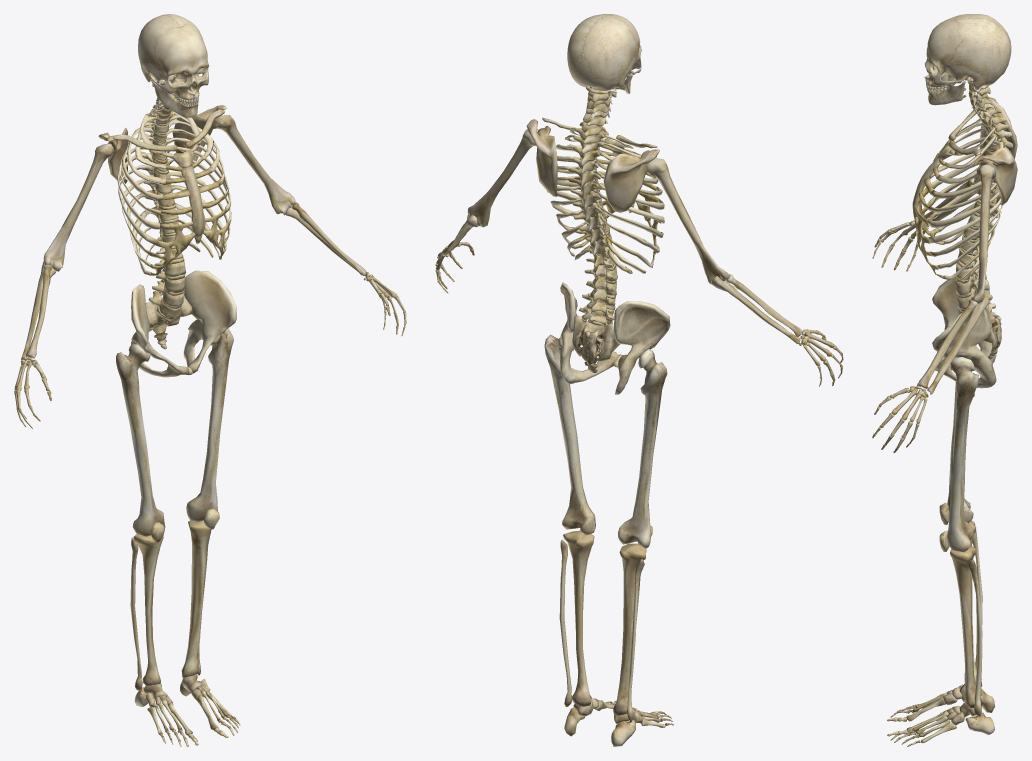
Rendered from skeleton.glb.
3 renders of one model, left to right at view 1: azimuth 30°, elevation 25°; view 2: azimuth 150°, elevation 25°; view 3: azimuth 270°, elevation 25°, orthographic. The views are drawn at different scales.
Parts seen in each view (by area): view 1: F_HipsLegs, F_ArmsHands, F_Ribs, F_Cranium, F_Spine, F_RibCartilage, F_Sternum, F_Discs, F_Sacrum; view 2: F_HipsLegs, F_ArmsHands, F_Spine, F_Cranium, F_Ribs, F_Sacrum, F_RibCartilage; view 3: F_HipsLegs, F_ArmsHands, F_Cranium, F_Ribs, F_Spine, F_RibCartilage, F_Mandible, F_Sternum, F_Sacrum, F_Discs.
Part boxes in pixels (box(x1,y1,x2,y2)): F_HipsLegs: box(116, 270, 240, 746); F_ArmsHands: box(14, 105, 406, 428); F_Ribs: box(117, 111, 231, 275); F_Cranium: box(138, 14, 209, 100); F_Spine: box(141, 80, 185, 317); F_RibCartilage: box(150, 144, 228, 275); F_Sternum: box(171, 149, 205, 244); F_Discs: box(152, 107, 185, 319); F_Sacrum: box(146, 295, 193, 349); F_HipsLegs: box(544, 282, 673, 746); F_ArmsHands: box(435, 117, 843, 386); F_Spine: box(568, 86, 617, 325); F_Cranium: box(567, 14, 641, 91); F_Ribs: box(547, 127, 664, 273); F_Sacrum: box(572, 314, 620, 372); F_RibCartilage: box(581, 138, 660, 263); F_HipsLegs: box(887, 268, 996, 746); F_ArmsHands: box(872, 97, 1017, 452); F_Cranium: box(924, 14, 1011, 88); F_Ribs: box(927, 113, 1005, 282); F_Spine: box(955, 83, 1012, 313); F_RibCartilage: box(914, 137, 956, 278); F_Mandible: box(928, 78, 965, 105); F_Sternum: box(912, 141, 953, 219); F_Sacrum: box(983, 310, 1001, 359); F_Discs: box(956, 97, 998, 311).
Bounding box in the file's own units: 0.9349 × 1.6 × 0.2967.
14 materials, 14 textured.
